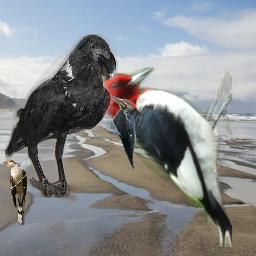Crow: (5, 34, 118, 198)
Cuckoo: (3, 160, 27, 225)
Woodpecker: (98, 67, 232, 247), (109, 95, 137, 169)
